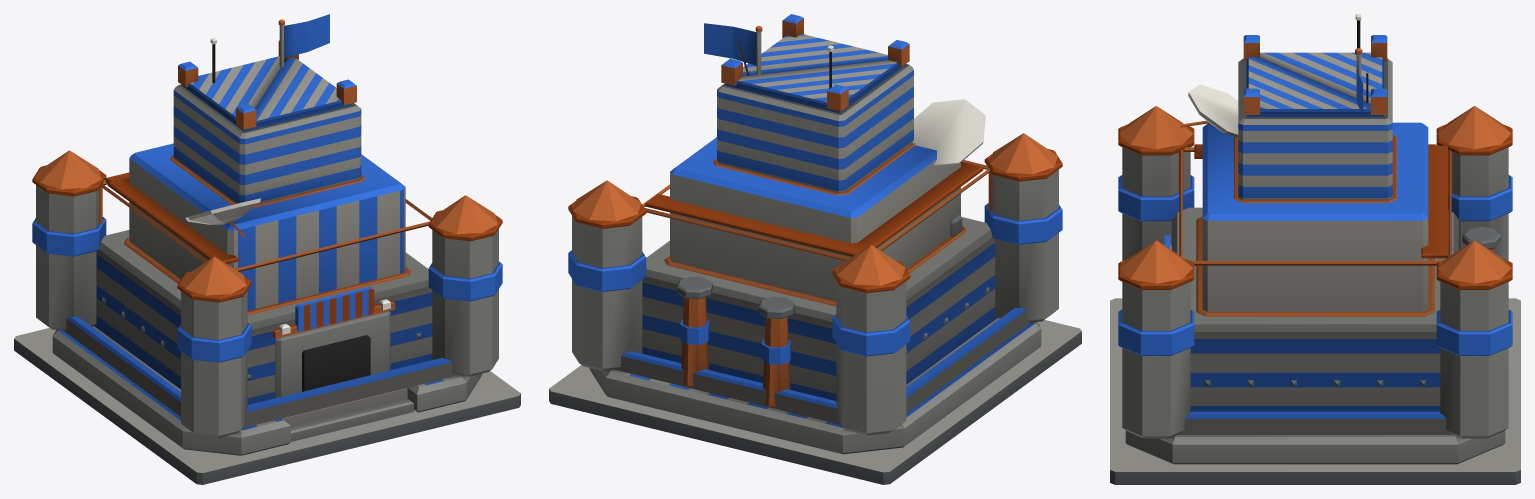
The picture shows the model from 3 angles, left to right: view 1: azimuth 30°, elevation 25°; view 2: azimuth 150°, elevation 25°; view 3: azimuth 270°, elevation 25°; orthographic projection. The views are drawn at different scales.
Parts seen in each view (by area): view 1: body, scaffoldFrame, swayFlag, spinRadar; view 2: body, scaffoldFrame, spinRadar, swayFlag; view 3: body, scaffoldFrame, spinRadar.
Part boxes in pixels (x1=…): body: x1=14, y1=19, x2=520, y2=484; scaffoldFrame: x1=99, y1=172, x2=432, y2=271; swayFlag: x1=284, y1=14, x2=329, y2=57; spinRadar: x1=185, y1=198, x2=260, y2=237; body: x1=549, y1=14, x2=1081, y2=484; scaffoldFrame: x1=642, y1=160, x2=992, y2=260; spinRadar: x1=912, y1=99, x2=985, y2=165; swayFlag: x1=704, y1=23, x2=756, y2=65; body: x1=1110, y1=14, x2=1520, y2=484; scaffoldFrame: x1=1178, y1=144, x2=1452, y2=265; spinRadar: x1=1179, y1=84, x2=1238, y2=137.
Bounding box in the file's own units: 4 × 3.96 × 4.
